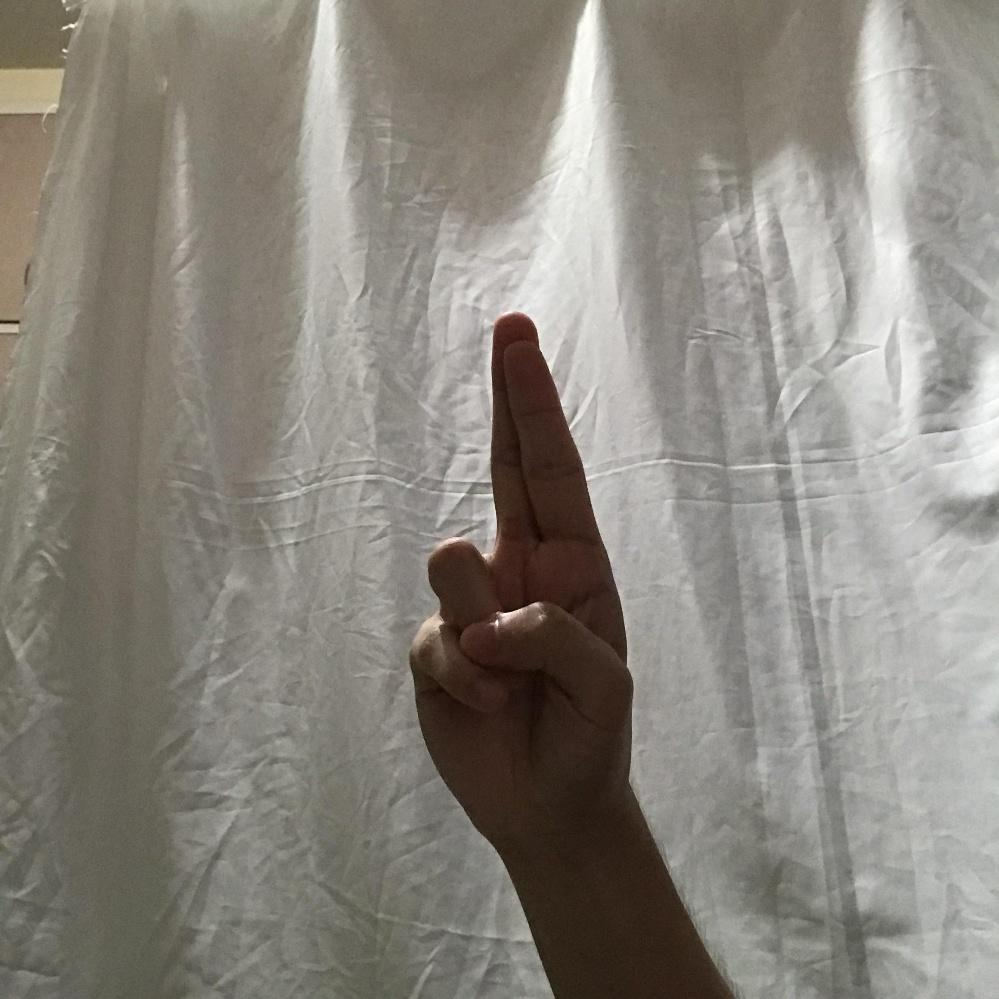r: (409, 311, 636, 840)
